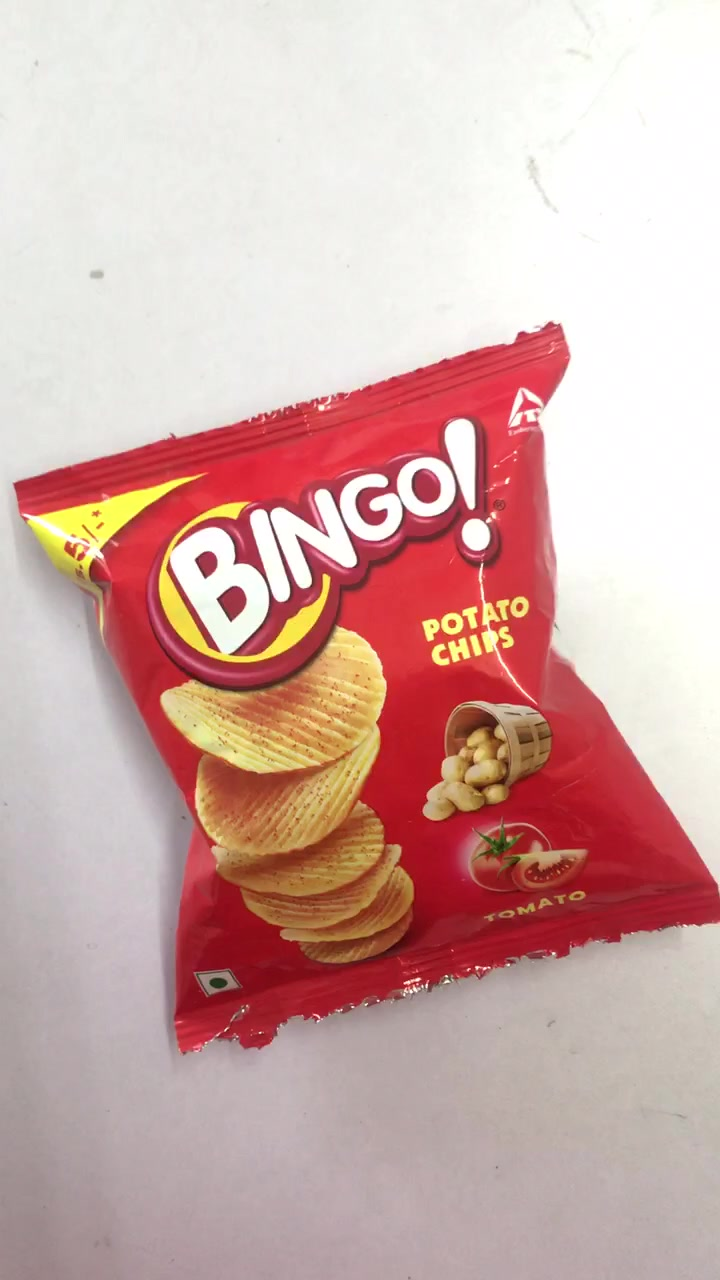Bingo: (21, 348, 720, 1045)
